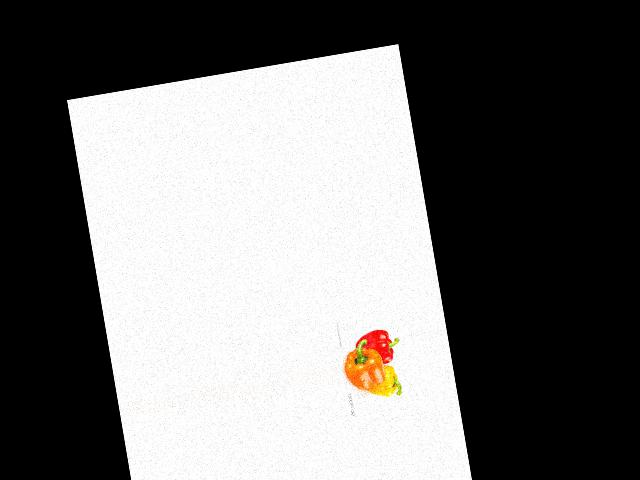bell_pepper: (362, 361, 405, 402)
